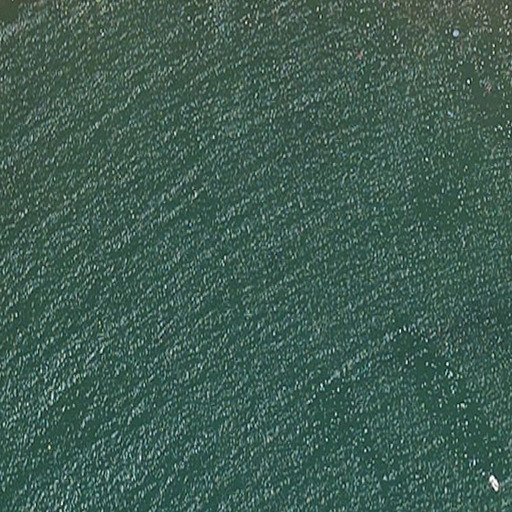ship: (489, 473, 501, 494)
